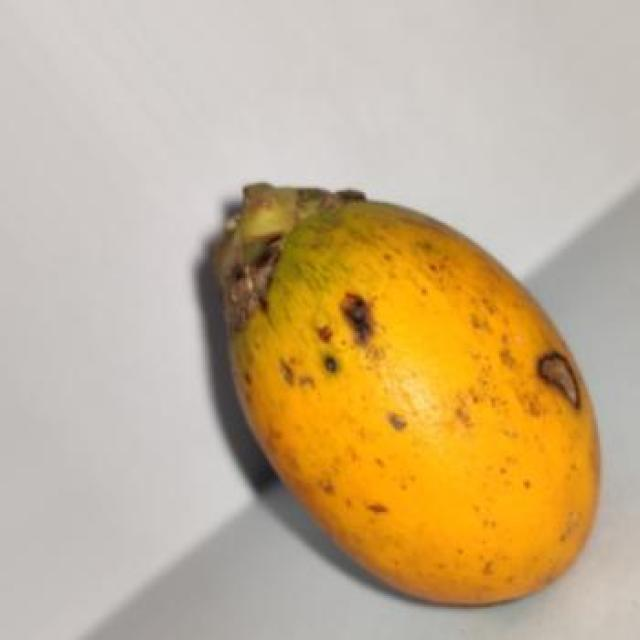good: (214, 185, 600, 609)
